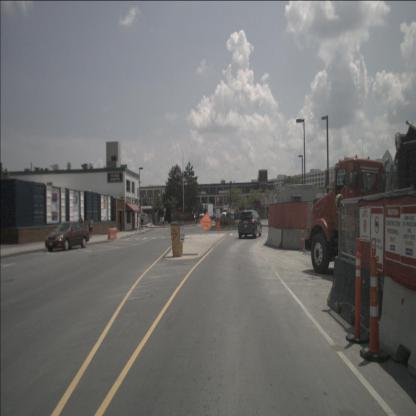barrier: (327, 254, 383, 336), (376, 275, 415, 379), (282, 228, 307, 250), (266, 227, 282, 249), (107, 228, 115, 240), (113, 226, 118, 239)
cone: (360, 237, 390, 363), (346, 237, 370, 344), (298, 219, 307, 252)
